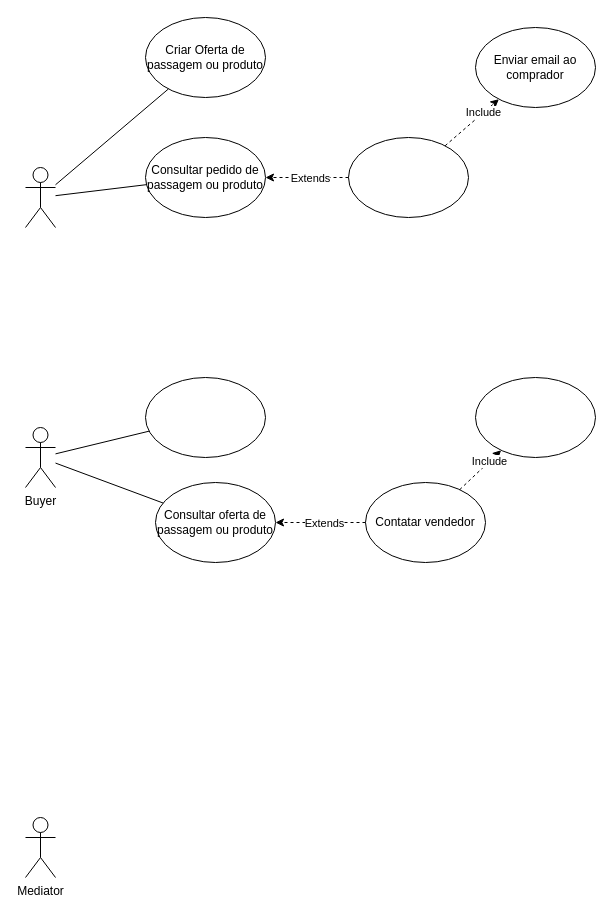
Some shapes in this 613 by 916 pixel diagram are drawn without their labels. The box of each missing label's shape, as (x1, y1, x2, y2) in pixels:
Consultar ofertas de passagem ou produto: (144, 376, 266, 458)
Contatar comprador: (348, 136, 468, 218)
Enviar email ao vendedor: (474, 376, 596, 458)
Seller: (24, 166, 56, 228)
